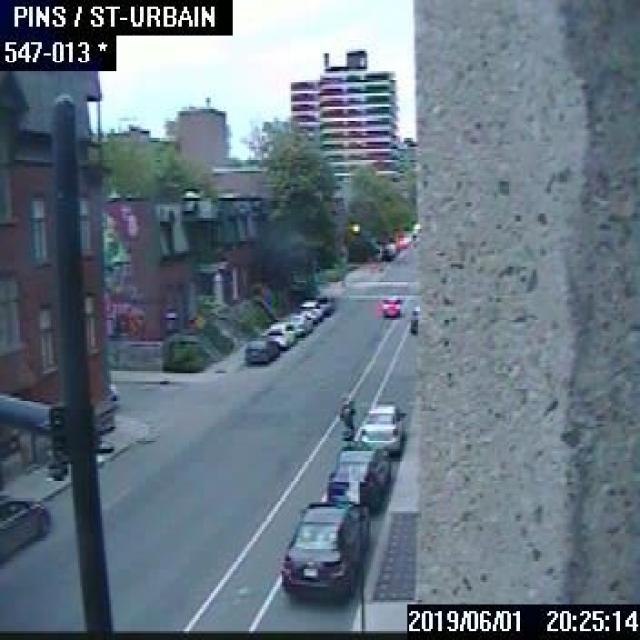pedestrian: (338, 396, 355, 442)
vehicle: (280, 499, 369, 593), (326, 444, 390, 511), (0, 491, 51, 565), (356, 401, 406, 448), (244, 334, 279, 363), (266, 319, 296, 346), (297, 298, 322, 323), (286, 311, 311, 334), (380, 294, 401, 316), (312, 293, 332, 313), (408, 303, 418, 334), (108, 381, 118, 409)
